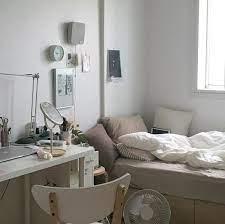Bed: (89, 109, 225, 224)
